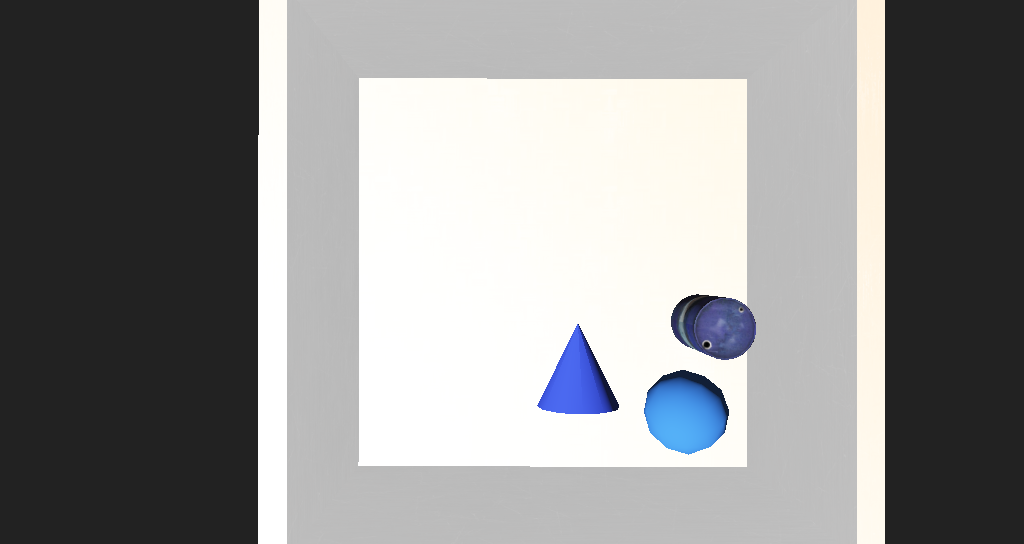cone: (600, 284, 653, 317)
cylinder: (495, 293, 556, 346)
sphere: (573, 320, 640, 367)
